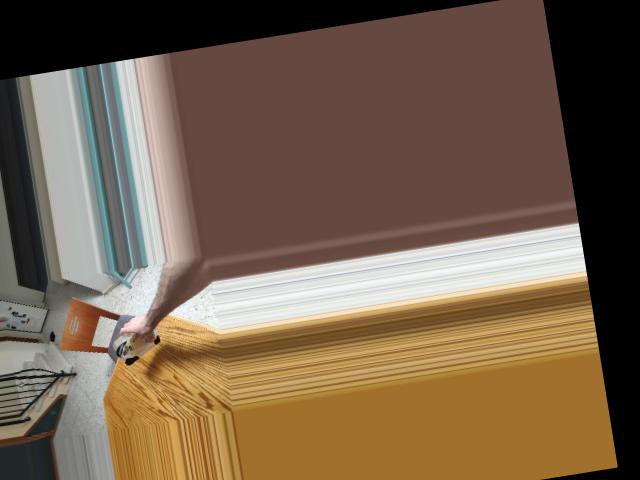cheese: (109, 313, 167, 367)
